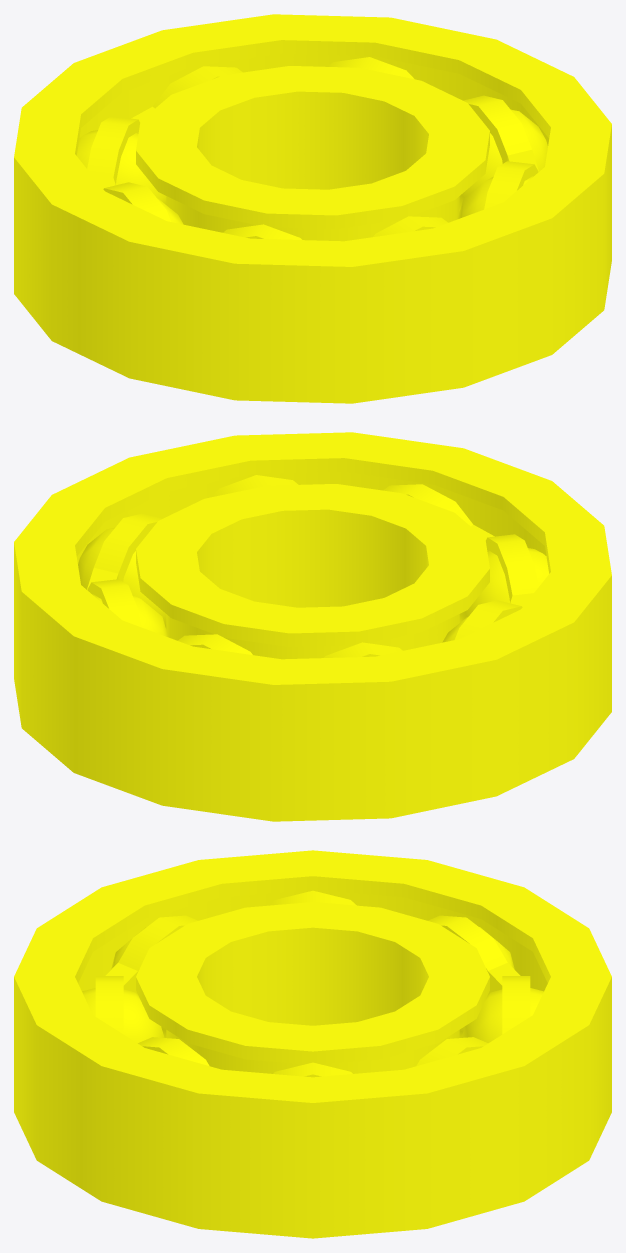
Rendered from ball_bearing_large.glb.
3 renders of one model, top to bottom at view 1: azimuth 30°, elevation 25°; view 2: azimuth 150°, elevation 25°; view 3: azimuth 270°, elevation 25°, orthographic.
Visible parts, largest first — view 1: ball_bearing_mx_1_2_large; view 2: ball_bearing_mx_1_2_large; view 3: ball_bearing_mx_1_2_large.
Boxes of the visible parts, bbox=[...] form: ball_bearing_mx_1_2_large: bbox=[14, 14, 611, 403]; ball_bearing_mx_1_2_large: bbox=[14, 432, 611, 821]; ball_bearing_mx_1_2_large: bbox=[14, 850, 611, 1238].
Bounding box in the file's own units: 0.2 × 0.05 × 0.2.
Materials: 1 (1 with a texture image).
